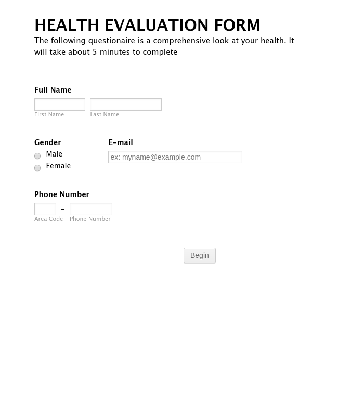textbox: (86, 94, 163, 113), (29, 96, 88, 113), (68, 199, 114, 218), (30, 201, 58, 218)
